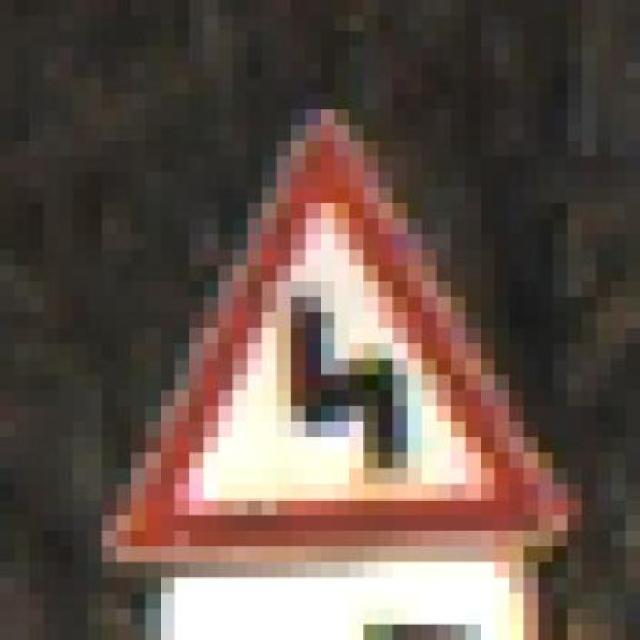Left Zig Zag Traffic: (73, 93, 582, 578)
